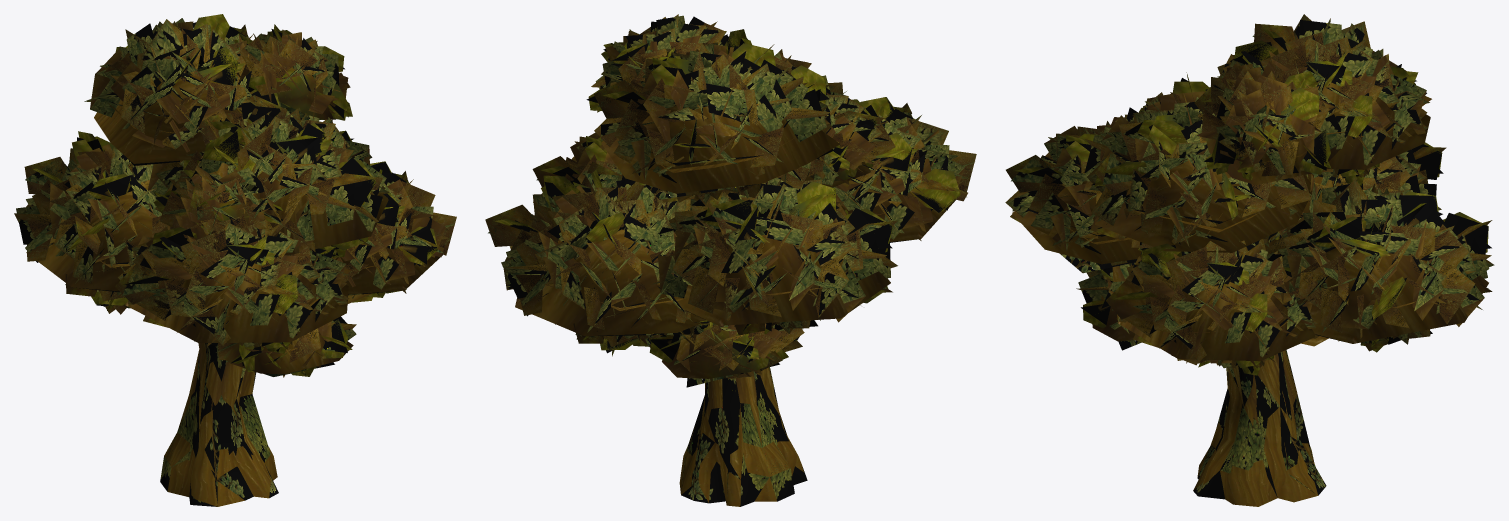
Rendered from Large_Green.glb.
The picture shows the model from 3 angles, left to right: view 1: azimuth 30°, elevation 25°; view 2: azimuth 150°, elevation 25°; view 3: azimuth 270°, elevation 25°; orthographic projection. The views are drawn at different scales.
Visible parts, largest first — view 1: Large_Green; view 2: Large_Green; view 3: Large_Green.
Part boxes in pixels (<box>): Large_Green: <box>14,14,456,506</box>; Large_Green: <box>485,14,976,506</box>; Large_Green: <box>1005,14,1494,506</box>.
Size of the model in its own units: 68.99 by 80.63 by 78.11.
Materials: 3 (3 with a texture image).
